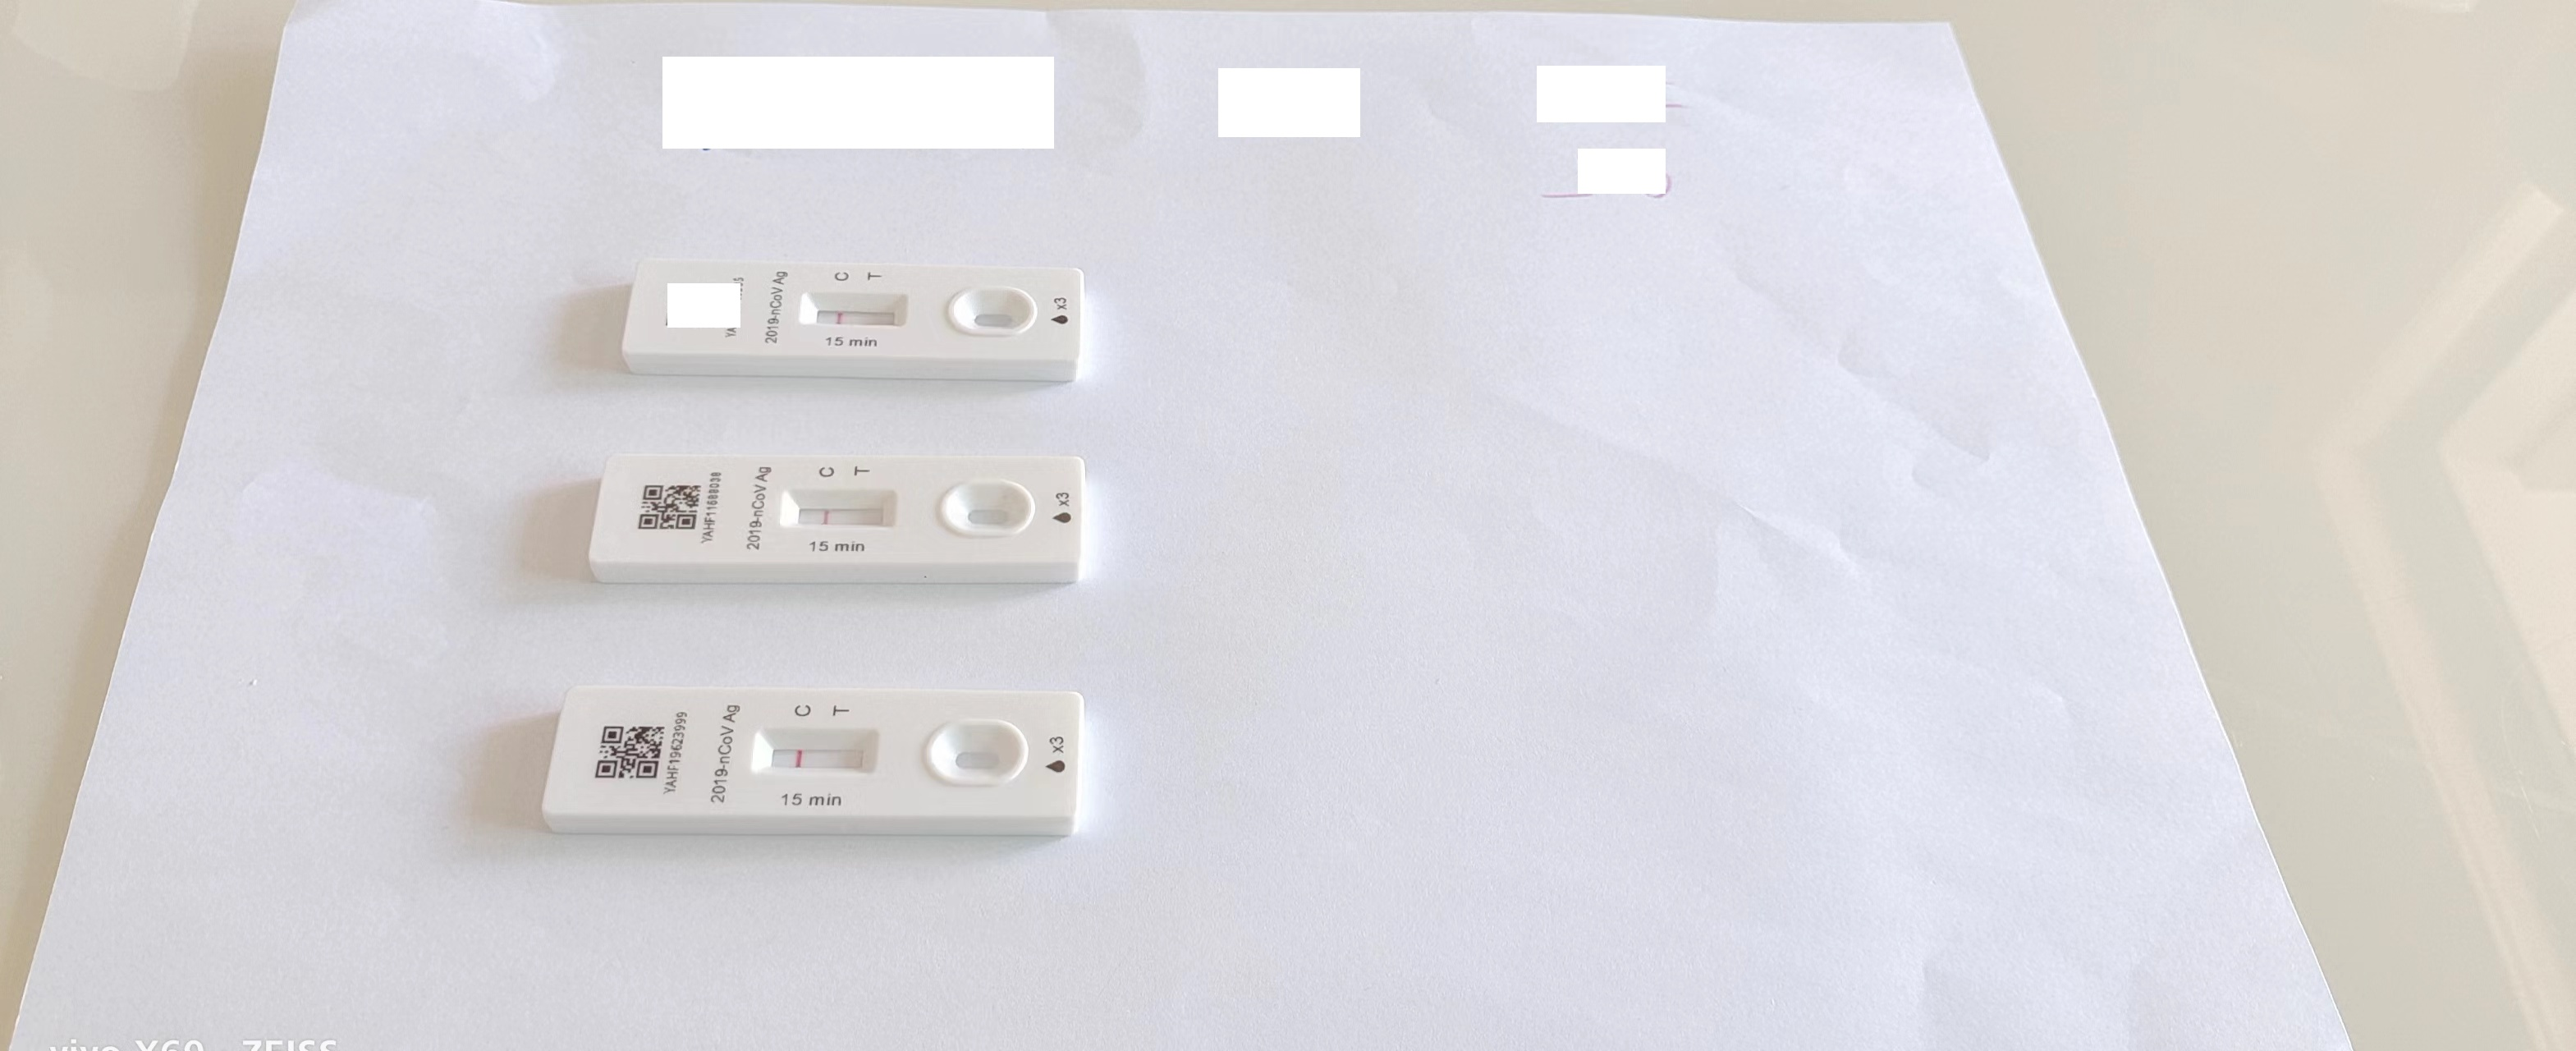negative: (756, 729, 881, 780), (780, 486, 900, 532), (797, 287, 909, 328)
